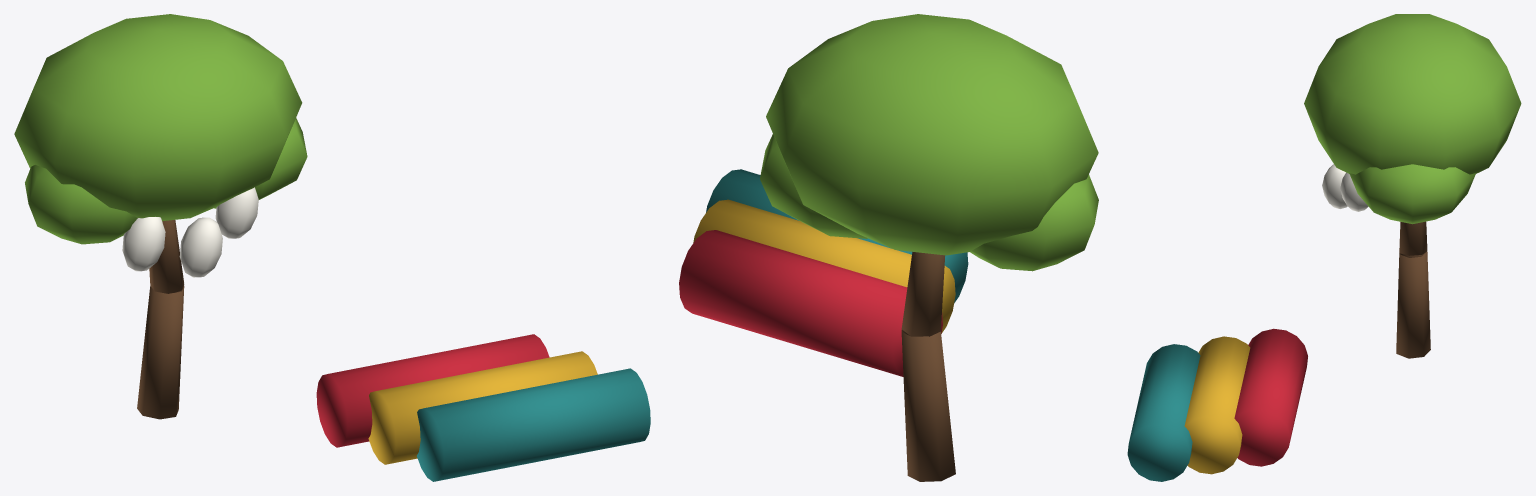
File: resource_silk.fbx
The picture shows the model from 3 angles, left to right: view 1: azimuth 30°, elevation 25°; view 2: azimuth 150°, elevation 25°; view 3: azimuth 270°, elevation 25°; orthographic projection. The views are drawn at different scales.
Visible parts, largest first — view 1: resource_silk_mulb_01, resource_silk_silk#2a8a8a_05, resource_silk_silk#c8283a_03, resource_silk_silk#e0b030_04, resource_silk_wood#6a4a30.001_00, resource_silk_cocoon_02; view 2: resource_silk_mulb_01, resource_silk_silk#c8283a_03, resource_silk_wood#6a4a30.001_00, resource_silk_silk#e0b030_04, resource_silk_silk#2a8a8a_05; view 3: resource_silk_mulb_01, resource_silk_silk#c8283a_03, resource_silk_silk#2a8a8a_05, resource_silk_silk#e0b030_04, resource_silk_wood#6a4a30.001_00, resource_silk_cocoon_02.
Boxes of the visible parts, <box> form: resource_silk_mulb_01: <box>14,14,307,244</box>; resource_silk_silk#2a8a8a_05: <box>417,368,650,481</box>; resource_silk_silk#c8283a_03: <box>316,334,549,447</box>; resource_silk_silk#e0b030_04: <box>368,351,597,464</box>; resource_silk_wood#6a4a30.001_00: <box>137,220,184,419</box>; resource_silk_cocoon_02: <box>122,187,258,277</box>; resource_silk_mulb_01: <box>760,14,1098,271</box>; resource_silk_silk#c8283a_03: <box>679,230,942,376</box>; resource_silk_wood#6a4a30.001_00: <box>901,252,955,481</box>; resource_silk_silk#e0b030_04: <box>693,199,955,333</box>; resource_silk_silk#2a8a8a_05: <box>706,169,968,303</box>; resource_silk_mulb_01: <box>1304,14,1521,224</box>; resource_silk_silk#c8283a_03: <box>1234,328,1307,466</box>; resource_silk_silk#2a8a8a_05: <box>1127,344,1200,481</box>; resource_silk_silk#e0b030_04: <box>1184,336,1250,474</box>; resource_silk_wood#6a4a30.001_00: <box>1396,221,1430,358</box>; resource_silk_cocoon_02: <box>1322,164,1368,211</box>.
Size of the model in its own units: 99.66 by 78.31 by 86.94.
